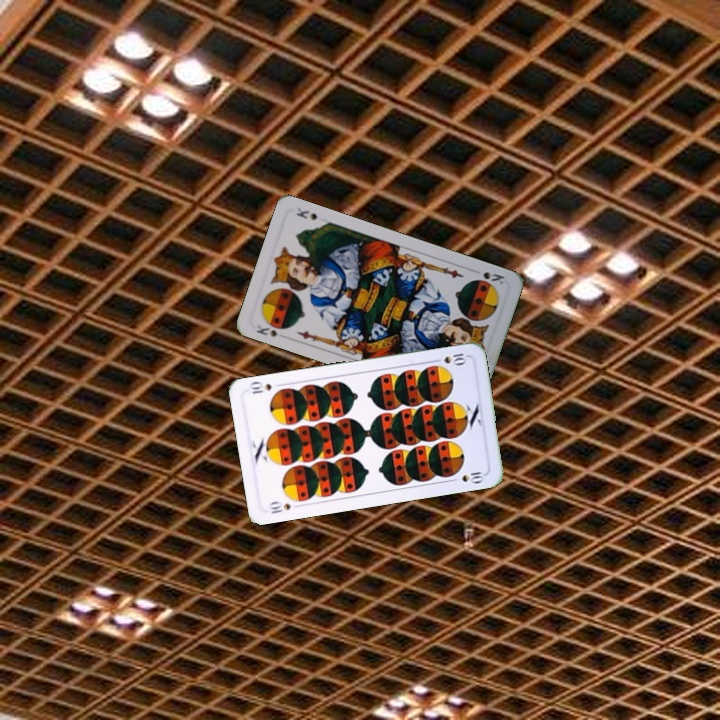S10: (429, 349, 469, 367), (265, 497, 293, 516)
SK: (252, 317, 290, 340), (479, 267, 507, 287)
